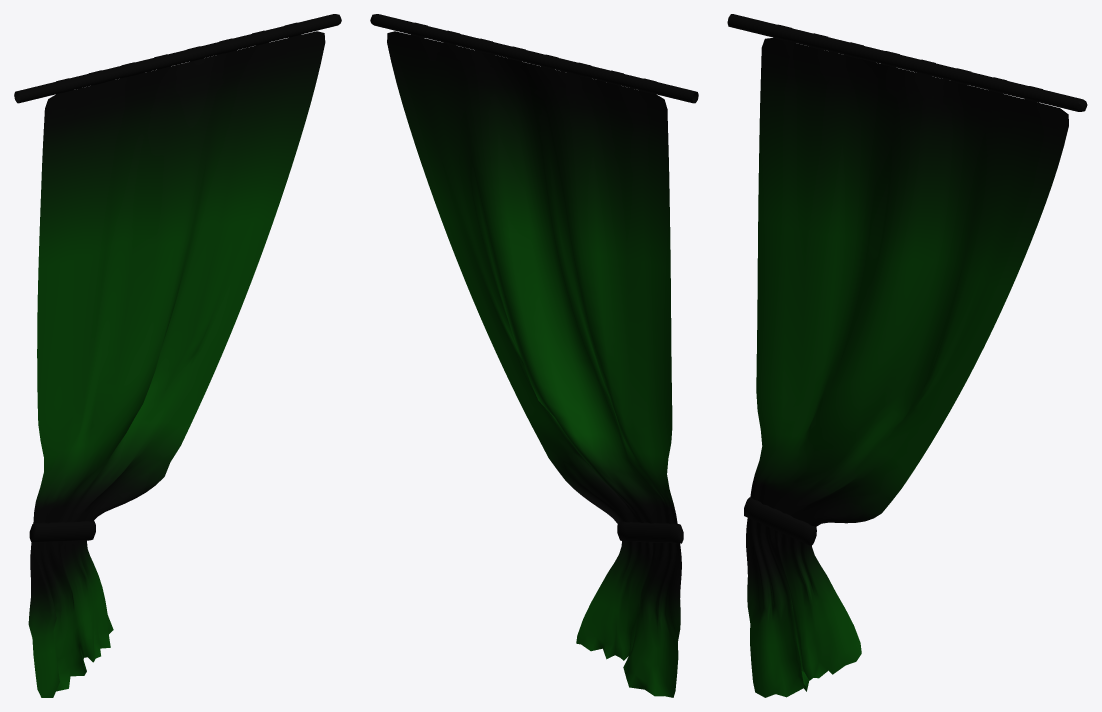
File: SM_Curtain2x4A.fbx
The picture shows the model from 3 angles, left to right: view 1: azimuth 30°, elevation 25°; view 2: azimuth 150°, elevation 25°; view 3: azimuth 330°, elevation 25°; orthographic projection. The views are drawn at different scales.
Visible parts, largest first — view 1: SM_Curtain2x4A; view 2: SM_Curtain2x4A; view 3: SM_Curtain2x4A.
Part boxes in pixels (x1,y1,x2,y2): SM_Curtain2x4A: (14, 14, 341, 697); SM_Curtain2x4A: (370, 14, 698, 697); SM_Curtain2x4A: (727, 14, 1087, 697).
Size of the model in its own units: 220 by 398 by 27.44.
